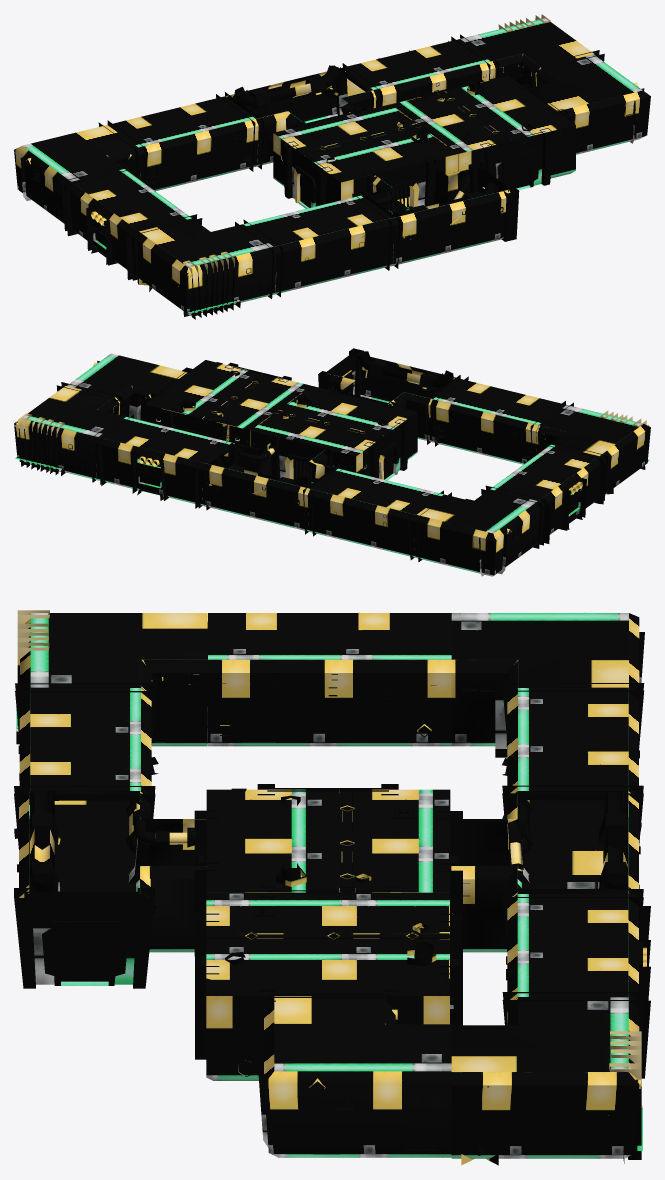
Rendered from Combined_Mesh_root_scene__5_130fafea__zombies2_diffuse_12_078cf75e_c1f257.obj.
3 views of the same model, one above another, from view 1: azimuth 30°, elevation 25°; view 2: azimuth 150°, elevation 25°; view 3: azimuth 270°, elevation 25° (orthographic). The views are drawn at different scales.
Bounding box in the file's own units: 92.31 × 9.64 × 52.29.
179 materials, 179 textured.
